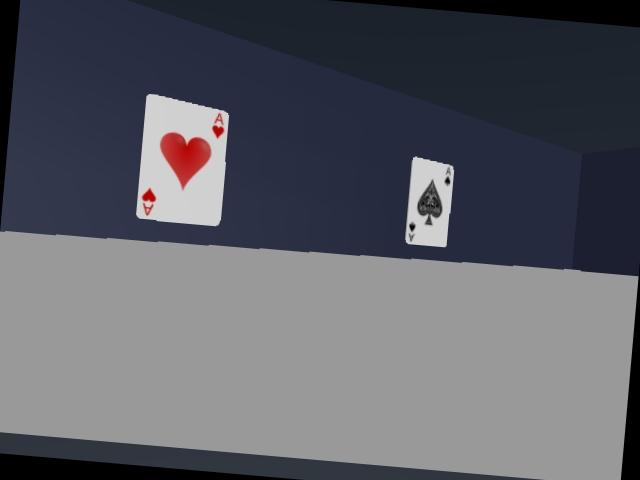heart: (136, 94, 228, 225)
spade: (405, 157, 453, 246)
